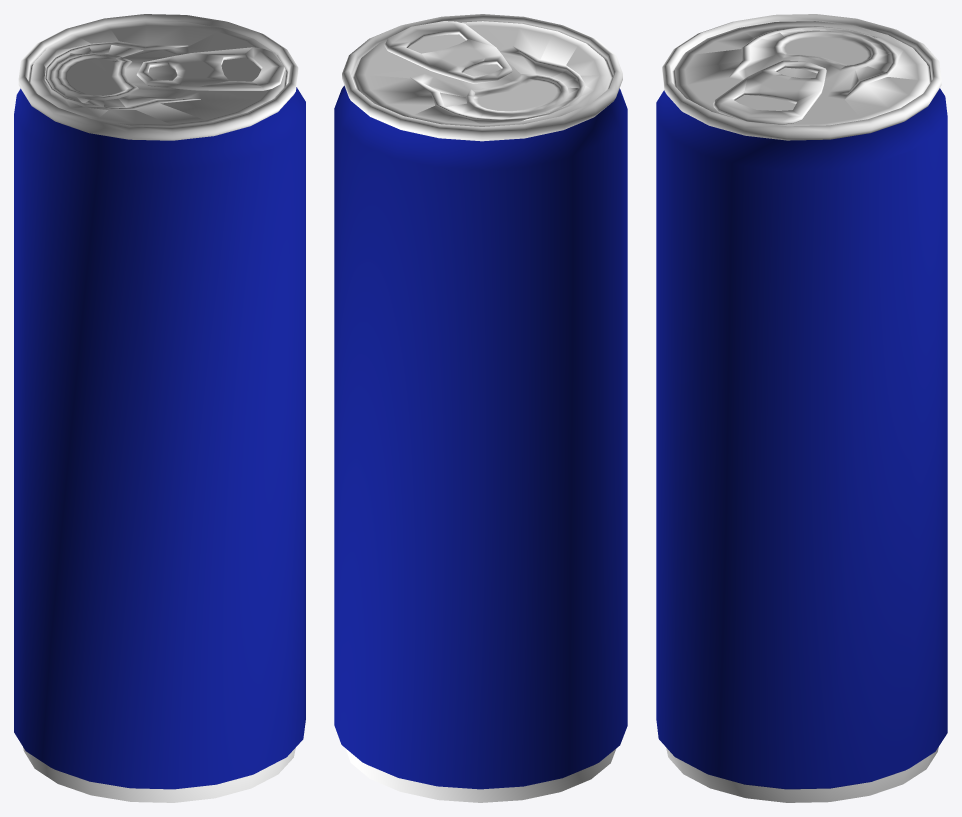
The model's file is Soda Can 3.fbx.
3 views of the same model, side by side, from view 1: azimuth 30°, elevation 25°; view 2: azimuth 150°, elevation 25°; view 3: azimuth 270°, elevation 25° (orthographic).
Parts seen in each view (by area): view 1: Node 0; view 2: Node 0; view 3: Node 0.
Boxes of the visible parts, x1,y1,x2,y2 form: Node 0: (14,14,305,802); Node 0: (334,14,627,802); Node 0: (656,14,947,802).
Size of the model in its own units: 0.0545 by 0.1404 by 0.0545.
